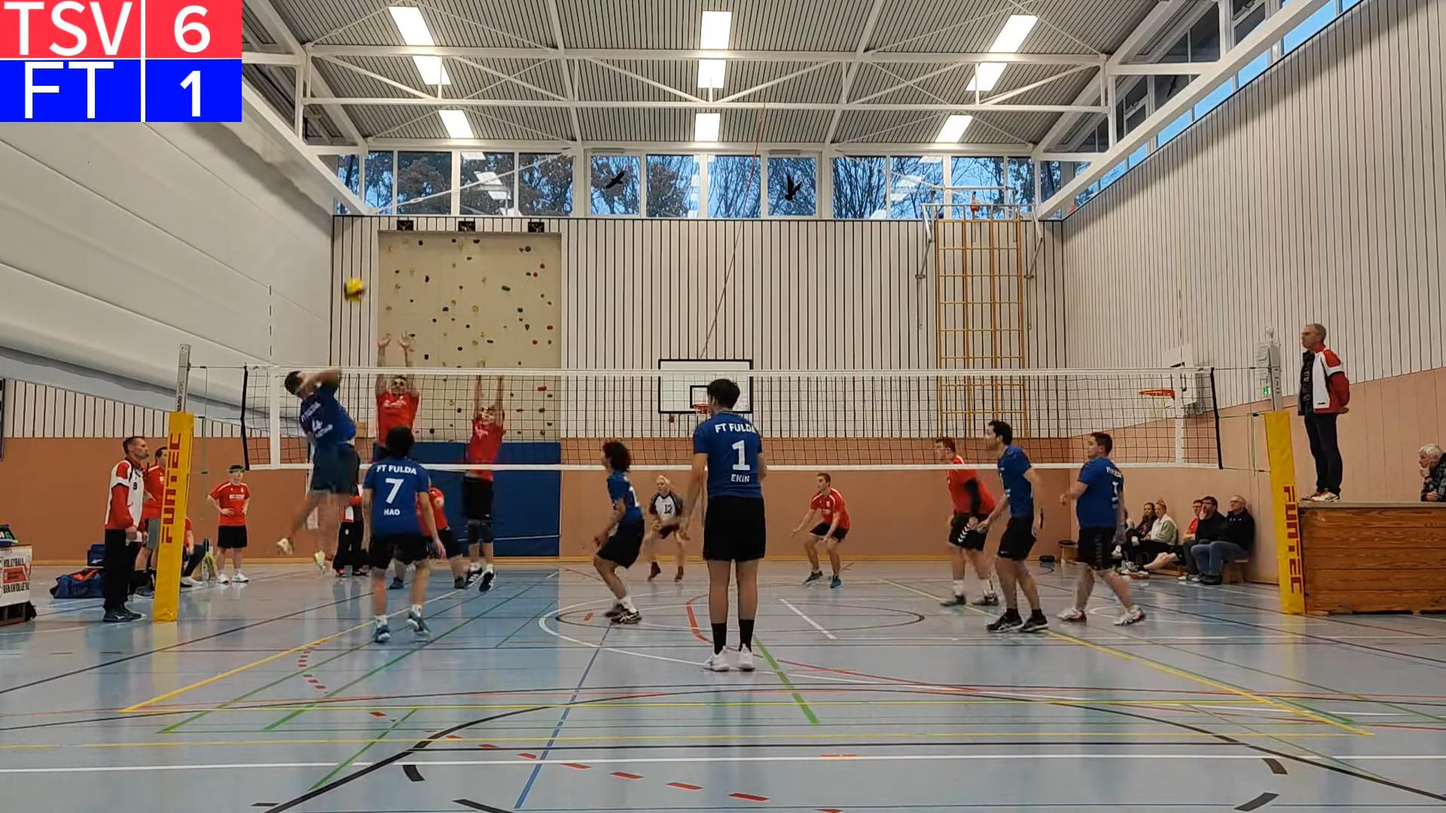Attack: (279, 360, 361, 575)
Block: (456, 355, 513, 595), (375, 330, 420, 439)
Player: (682, 379, 766, 671), (362, 425, 444, 643), (1058, 432, 1144, 625), (983, 420, 1048, 632), (934, 437, 998, 605), (593, 441, 644, 623), (791, 472, 849, 587), (644, 475, 687, 581), (429, 485, 466, 589)
ball: (341, 276, 369, 297)
